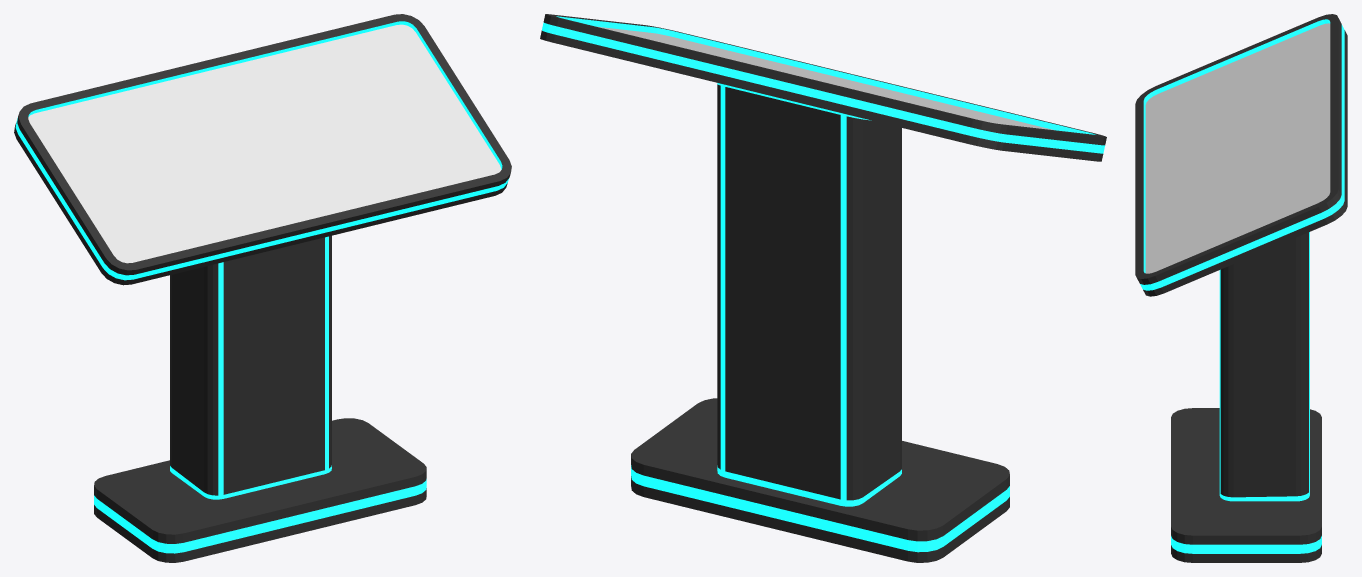
Rendered from Totem2.fbx.
3 renders of one model, left to right at view 1: azimuth 30°, elevation 25°; view 2: azimuth 150°, elevation 25°; view 3: azimuth 270°, elevation 25°, orthographic. The views are drawn at different scales.
Visible parts, largest first — view 1: Totem; view 2: Totem; view 3: Totem.
Part boxes in pixels (x1,y1,x2,y2): Totem: (14, 14, 511, 562); Totem: (540, 14, 1106, 562); Totem: (1135, 14, 1347, 562).
Size of the model in its own units: 149 by 145 by 70.33.
